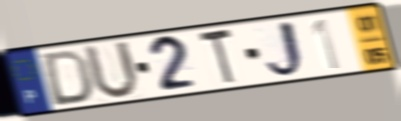1: (312, 18, 342, 70)
2: (145, 33, 204, 97)
D: (41, 47, 95, 108)
J: (264, 18, 310, 80)
T: (197, 26, 237, 88)
U: (81, 39, 141, 102)
